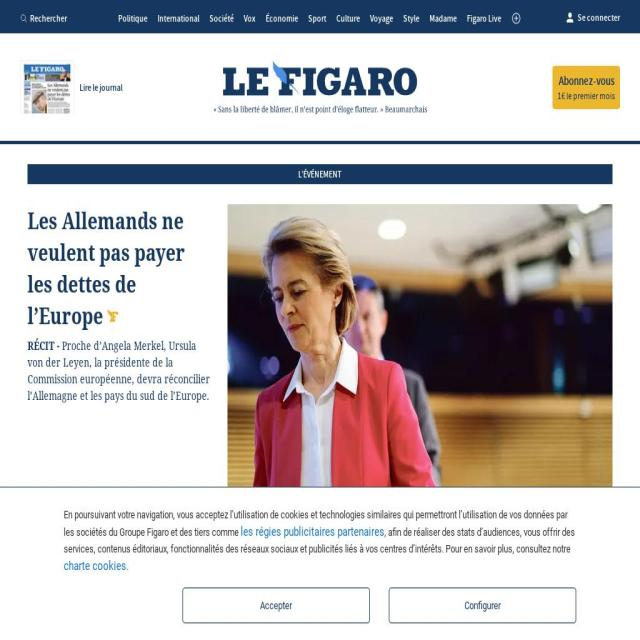button: (228, 204, 612, 493), (28, 204, 212, 331), (28, 513, 162, 615), (178, 513, 312, 615), (328, 513, 462, 615), (478, 513, 612, 615), (213, 60, 427, 114), (182, 588, 370, 624), (388, 588, 576, 624), (20, 60, 122, 114), (552, 65, 620, 109), (45, 628, 163, 640), (195, 628, 313, 640), (345, 628, 463, 640), (20, 9, 91, 25), (158, 11, 200, 25), (467, 11, 502, 25), (266, 11, 298, 25), (118, 11, 148, 25), (430, 11, 458, 25), (336, 11, 361, 25), (210, 11, 234, 25), (370, 11, 394, 25), (308, 11, 327, 25), (403, 11, 420, 25), (244, 11, 256, 25), (511, 11, 522, 25)
heading: (28, 204, 212, 331), (195, 628, 313, 640), (345, 628, 463, 640), (495, 628, 596, 640)
image: (228, 204, 612, 493), (28, 513, 162, 615), (178, 513, 312, 615), (328, 513, 462, 615), (478, 513, 612, 615), (213, 60, 427, 114), (20, 60, 73, 112), (511, 11, 522, 25), (20, 11, 28, 25), (45, 631, 52, 640)
link: (64, 558, 127, 574)
text: (64, 508, 568, 538), (63, 526, 576, 555), (28, 338, 210, 403), (28, 164, 612, 184), (241, 524, 385, 539), (558, 72, 614, 89), (557, 89, 615, 102), (74, 80, 122, 94), (578, 10, 620, 24), (27, 338, 62, 353), (30, 11, 67, 25), (58, 629, 98, 640), (126, 560, 129, 572)
